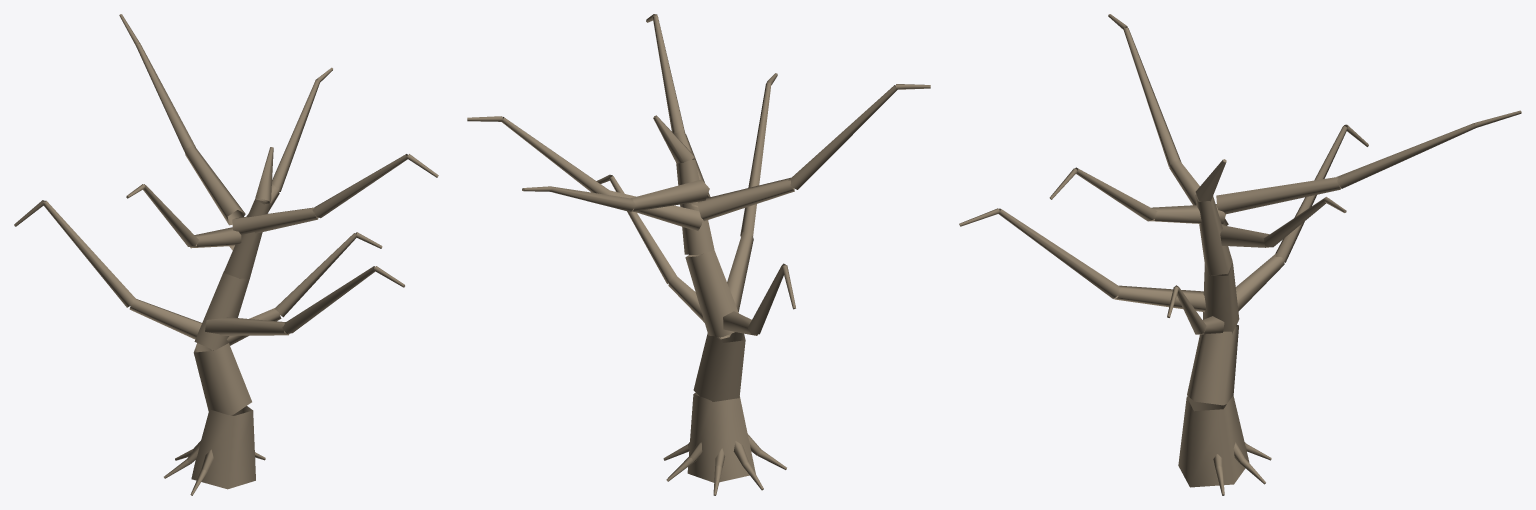
The model's file is dead_tree_lod2.glb.
The picture shows the model from 3 angles, left to right: view 1: azimuth 30°, elevation 25°; view 2: azimuth 150°, elevation 25°; view 3: azimuth 270°, elevation 25°; orthographic projection. The views are drawn at different scales.
Parts seen in each view (by area): view 1: Bark; view 2: Bark; view 3: Bark.
Boxes of the visible parts, x1,y1,x2,y2 form: Bark: [14, 14, 438, 495]; Bark: [467, 14, 930, 495]; Bark: [959, 14, 1521, 495].
Size of the model in its own units: 6.66 by 7.15 by 9.46.
